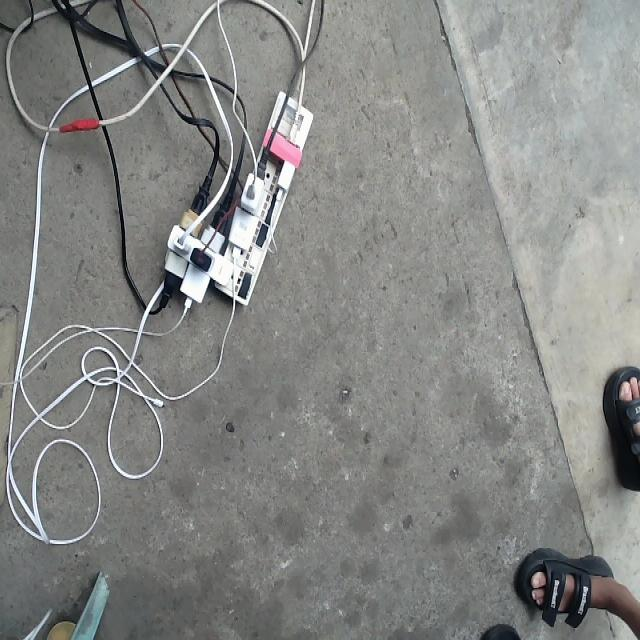-: (157, 93, 314, 312)
